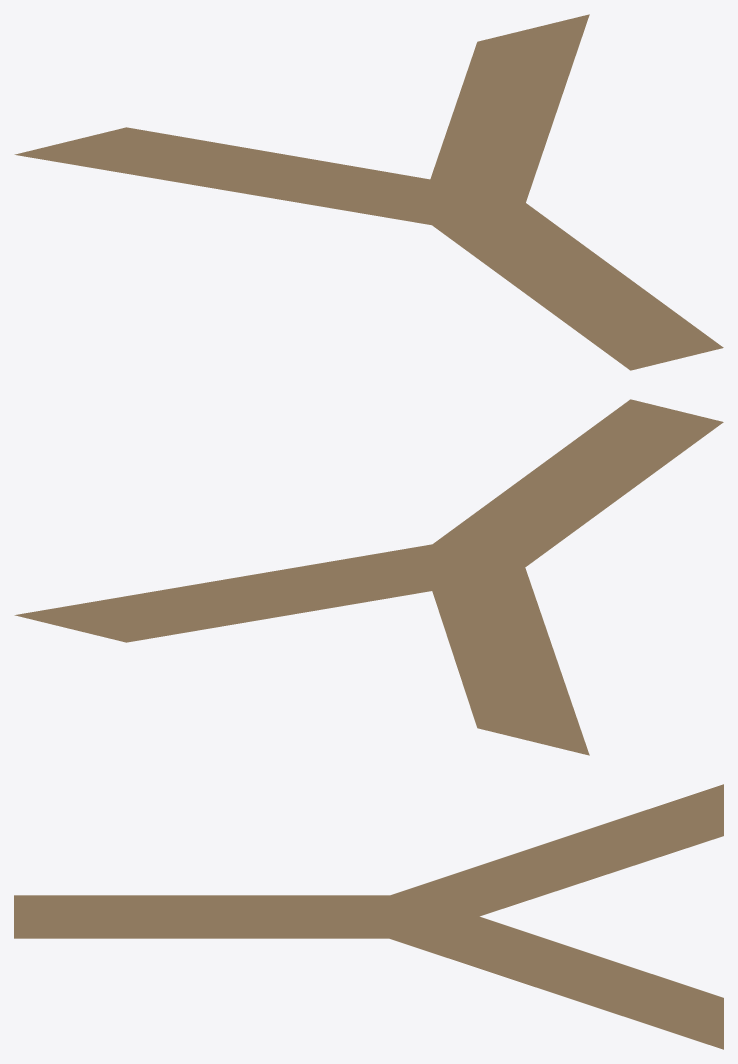
3 renders of one model, top to bottom at view 1: azimuth 30°, elevation 25°; view 2: azimuth 150°, elevation 25°; view 3: azimuth 270°, elevation 25°, orthographic. The views are drawn at different scales.
Parts seen in each view (by area): view 1: Text.001; view 2: Text.001; view 3: Text.001.
Boxes of the visible parts, x1,y1,x2,y2 form: Text.001: (14, 14, 723, 370); Text.001: (14, 399, 723, 755); Text.001: (14, 784, 723, 1049).
Size of the model in its own units: 32.82 by 6.04e-06 by 37.06.
